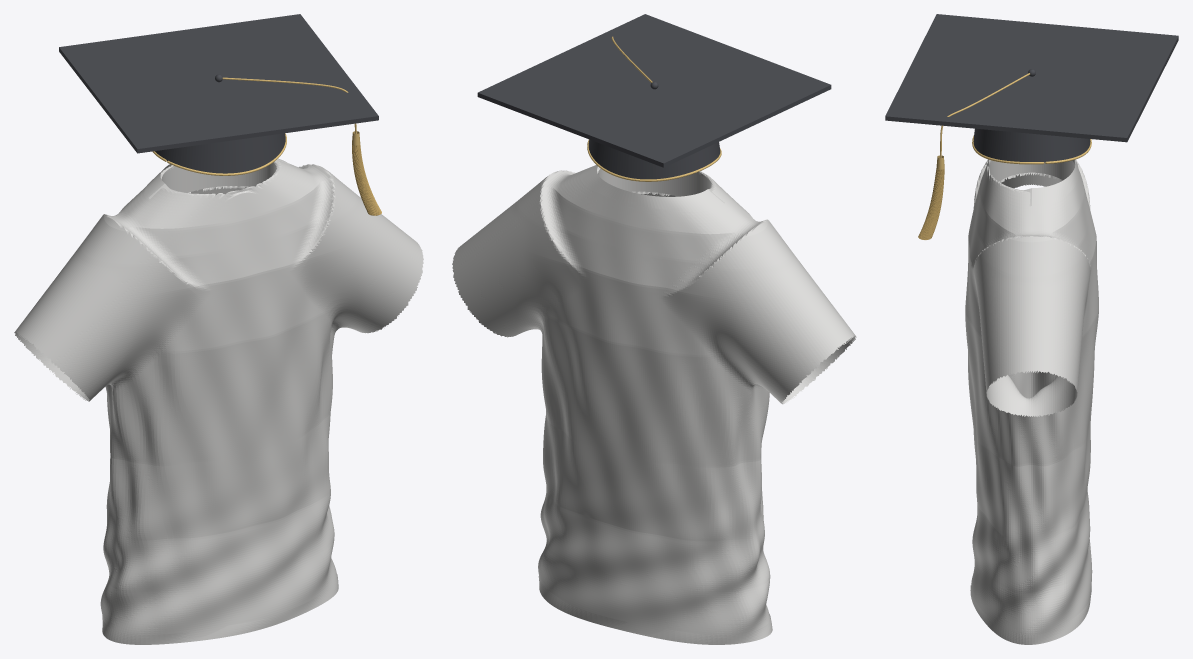
File: graduation-shirt.glb
The picture shows the model from 3 angles, left to right: view 1: azimuth 30°, elevation 25°; view 2: azimuth 150°, elevation 25°; view 3: azimuth 270°, elevation 25°; orthographic projection. The views are drawn at different scales.
Parts seen in each view (by area): view 1: Continuous cotton shirt, Square mortarboard, Cap crown, Bottom hem; view 2: Continuous cotton shirt, Square mortarboard, Cap crown, Bottom hem, Crew neck ribbing; view 3: Continuous cotton shirt, Square mortarboard, Cap crown, Bottom hem, Crew neck ribbing.
Boxes of the visible parts, box(x1,y1,x2,y2) form: Continuous cotton shirt: box(14, 160, 423, 639); Square mortarboard: box(59, 14, 378, 153); Cap crown: box(155, 133, 285, 173); Bottom hem: box(102, 574, 338, 644); Continuous cotton shirt: box(452, 165, 856, 634); Square mortarboard: box(477, 14, 831, 167); Cap crown: box(588, 139, 720, 179); Bottom hem: box(538, 576, 772, 644); Crew neck ribbing: box(581, 165, 724, 210); Continuous cotton shirt: box(965, 159, 1098, 635); Square mortarboard: box(885, 14, 1178, 142); Cap crown: box(973, 128, 1090, 162); Bottom hem: box(970, 576, 1091, 644); Crew neck ribbing: box(1024, 160, 1078, 206).
Bounding box in the file's own units: 1.62 × 2.09 × 1.07.
